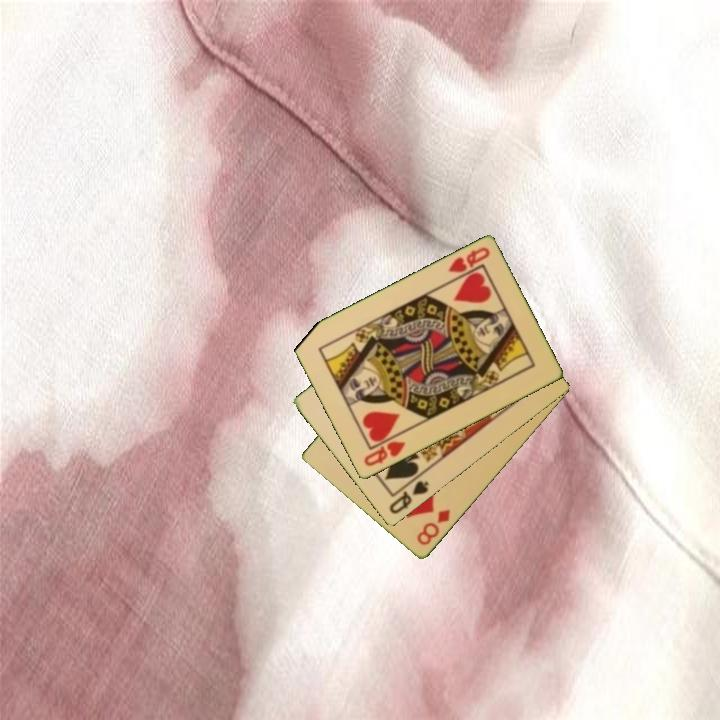8d: (413, 506, 453, 549)
Qh: (444, 244, 493, 276), (360, 438, 408, 470)
Qs: (386, 478, 432, 517)
